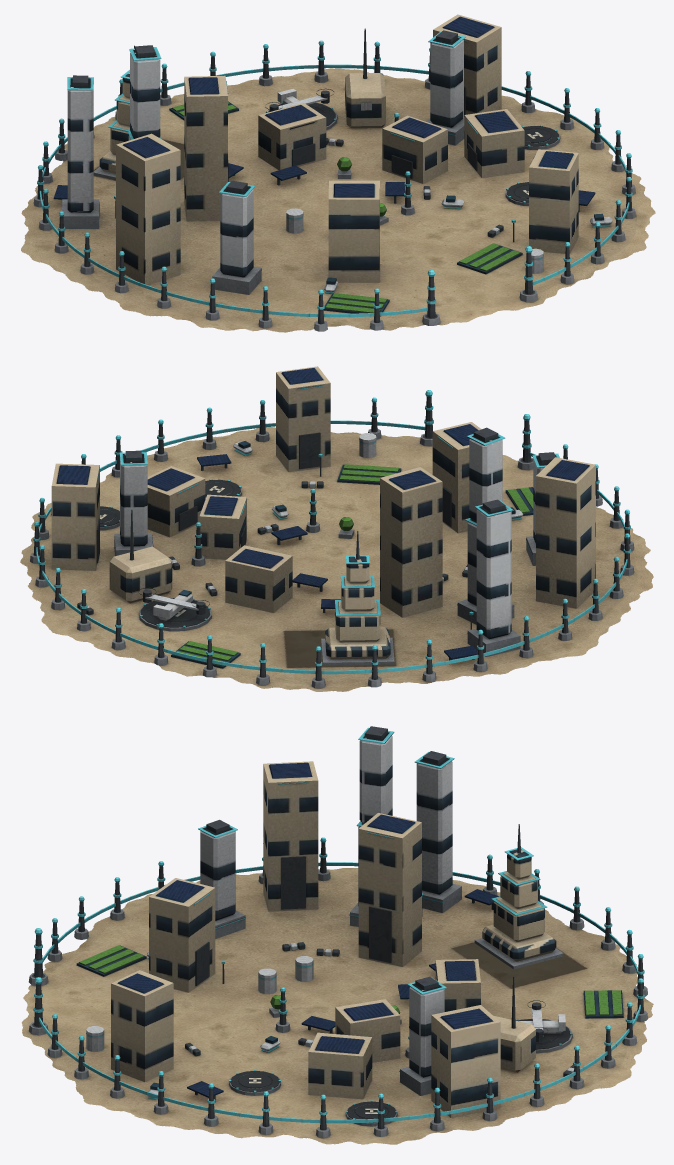
Rendered from future-town-medium-b-levant.glb.
3 renders of one model, top to bottom at view 1: azimuth 30°, elevation 25°; view 2: azimuth 150°, elevation 25°; view 3: azimuth 270°, elevation 25°, orthographic. The views are drawn at different scales.
Parts seen in each view (by area): view 1: LOD0; view 2: LOD0; view 3: LOD0.
Boxes of the visible parts, x1,y1,x2,y2 form: LOD0: (21, 14, 655, 332); LOD0: (20, 366, 653, 691); LOD0: (21, 726, 653, 1144).
Size of what is drawn, in the model's own units: 6.03 by 1.88 by 5.73.
3 materials, 3 textured.
